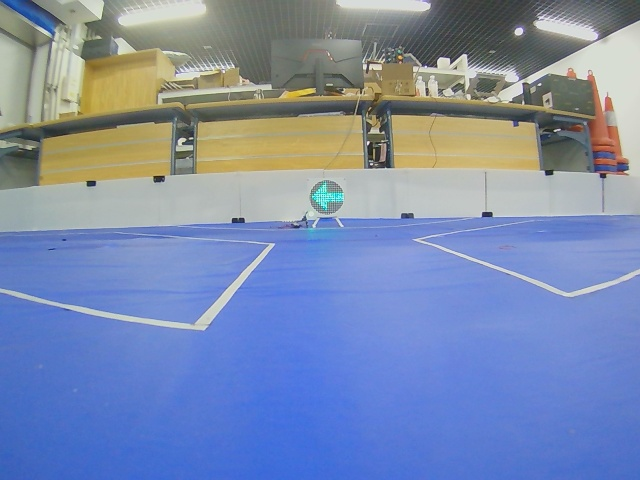left_green: (309, 179, 344, 215)
